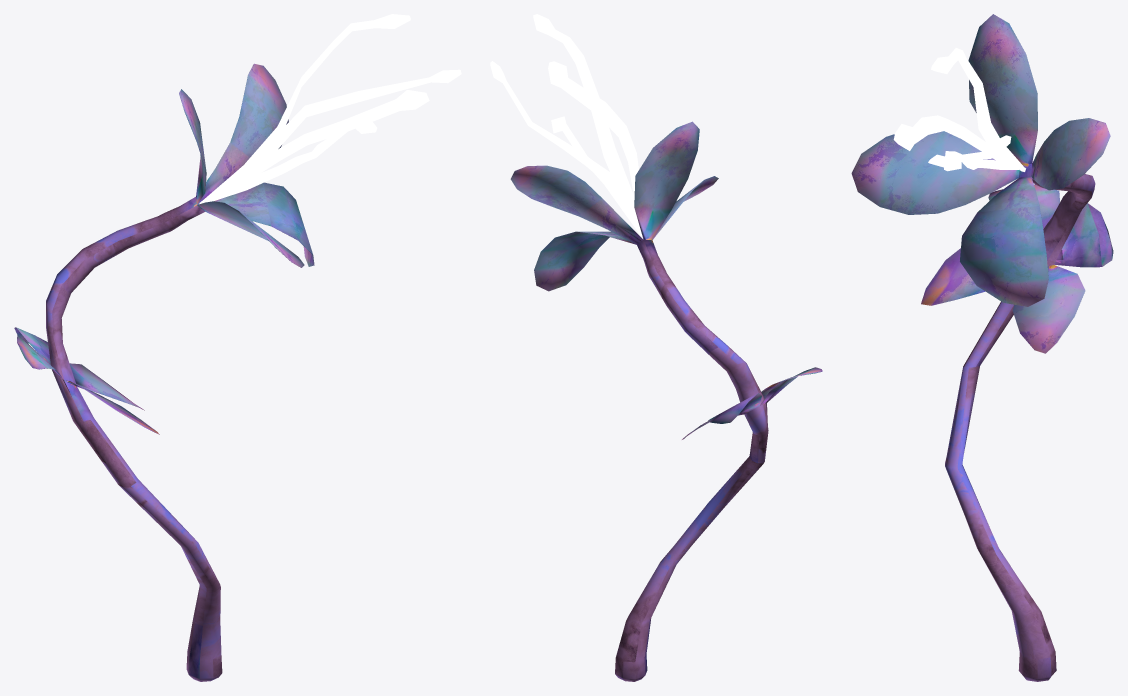
File: AlienWildPlantThree.fbx
3 renders of one model, left to right at view 1: azimuth 30°, elevation 25°; view 2: azimuth 150°, elevation 25°; view 3: azimuth 270°, elevation 25°, orthographic. The views are drawn at different scales.
Parts seen in each view (by area): view 1: Cube.016, Cube.015; view 2: Cube.016, Cube.015; view 3: Cube.016, Cube.015.
Part boxes in pixels (bbox=[...]): Cube.016: bbox=[14, 63, 314, 681]; Cube.015: bbox=[199, 14, 461, 204]; Cube.016: bbox=[510, 121, 822, 681]; Cube.015: bbox=[490, 14, 642, 238]; Cube.016: bbox=[851, 14, 1113, 681]; Cube.015: bbox=[893, 48, 1025, 171].
Size of the model in its own units: 1102 by 1745 by 600.
